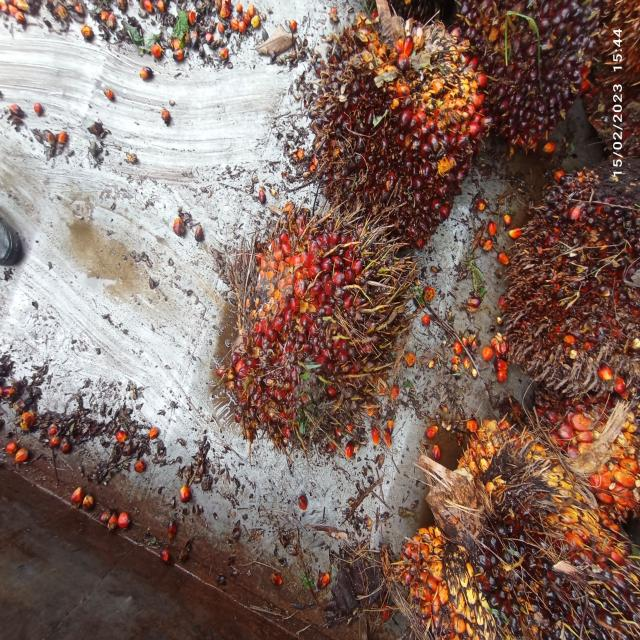fraksi 1: (309, 0, 486, 265)
fraksi 3: (226, 155, 420, 512)
